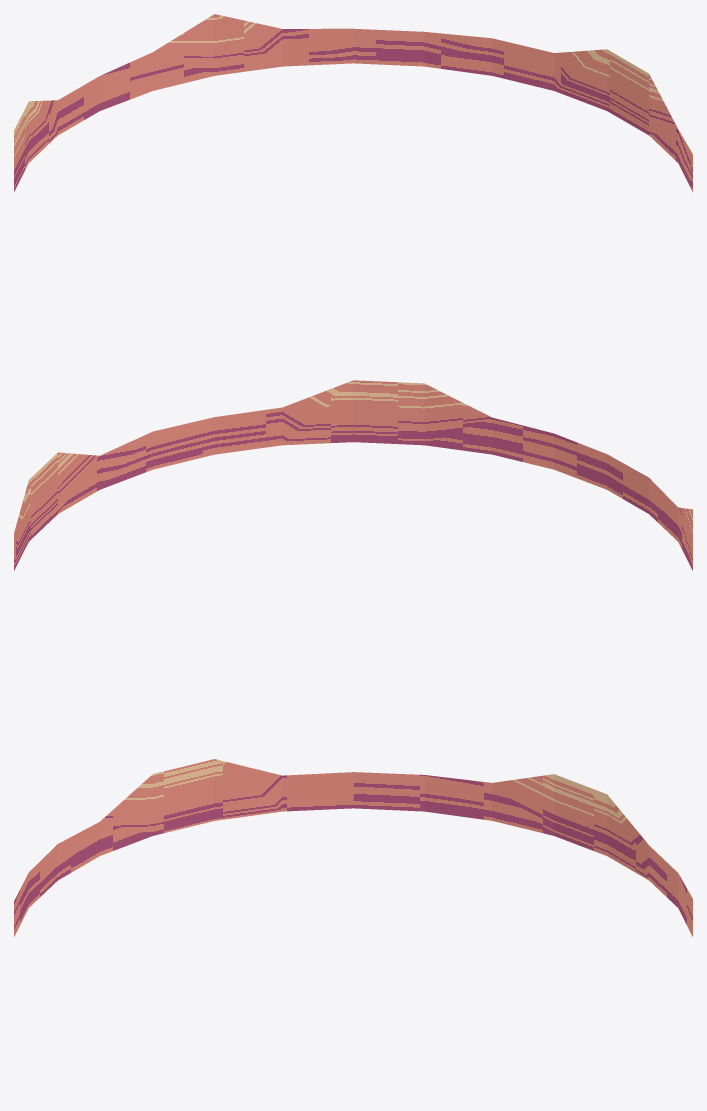
Rendered from skyx.horizon.glb.
3 views of the same model, one above another, from view 1: azimuth 30°, elevation 25°; view 2: azimuth 150°, elevation 25°; view 3: azimuth 270°, elevation 25° (orthographic).
Parts seen in each view (by area): view 1: kit_shell_horizon; view 2: kit_shell_horizon; view 3: kit_shell_horizon.
Boxes of the visible parts, <box> form: kit_shell_horizon: <box>14,14,692,191</box>; kit_shell_horizon: <box>14,380,692,570</box>; kit_shell_horizon: <box>14,759,692,936</box>.
Bounding box in the file's own units: 180 × 18 × 179.
1 material, 1 textured.
